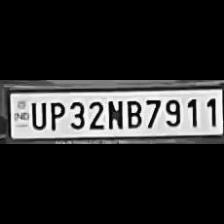1: (200, 94, 218, 128), (182, 96, 200, 128)
2: (86, 98, 104, 130)
3: (65, 98, 84, 130)
7: (142, 96, 160, 128)
9: (160, 96, 182, 128)
B: (122, 97, 142, 129)
N: (104, 96, 122, 130)
P: (46, 99, 66, 131)
U: (27, 98, 46, 130)
